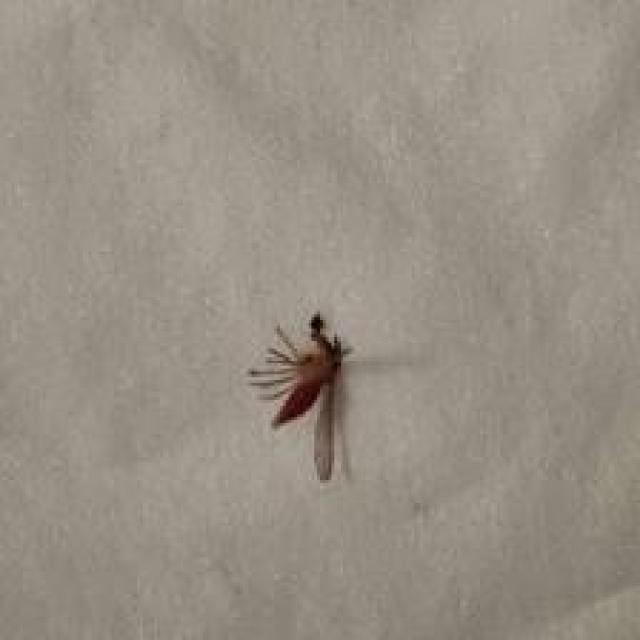Culex: (246, 310, 354, 481)
